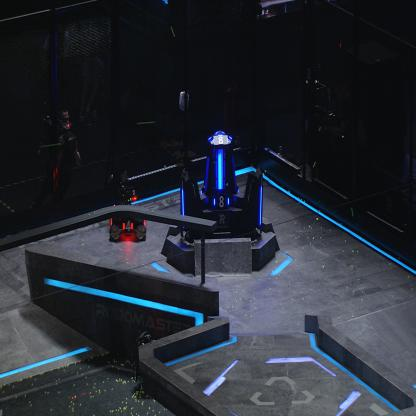car: (110, 184, 145, 241)
